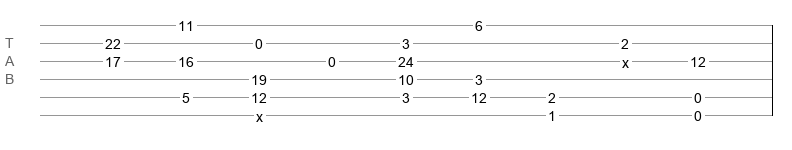0: (255, 36, 263, 46), (328, 54, 336, 64), (694, 90, 702, 100), (694, 108, 702, 118)
1: (548, 108, 556, 118)
10: (398, 72, 414, 82)
11: (178, 18, 194, 28)
12: (251, 90, 267, 100), (471, 90, 487, 100), (690, 54, 706, 64)
16: (178, 54, 194, 64)
17: (105, 54, 121, 64)
19: (251, 72, 267, 82)
2: (548, 90, 556, 100), (621, 36, 629, 46)
22: (105, 36, 121, 46)
24: (398, 54, 414, 64)
3: (402, 90, 410, 100), (402, 36, 410, 46), (475, 72, 483, 82)
5: (182, 90, 190, 100)
6: (475, 18, 483, 28)
x: (256, 109, 263, 117), (622, 55, 629, 63)
